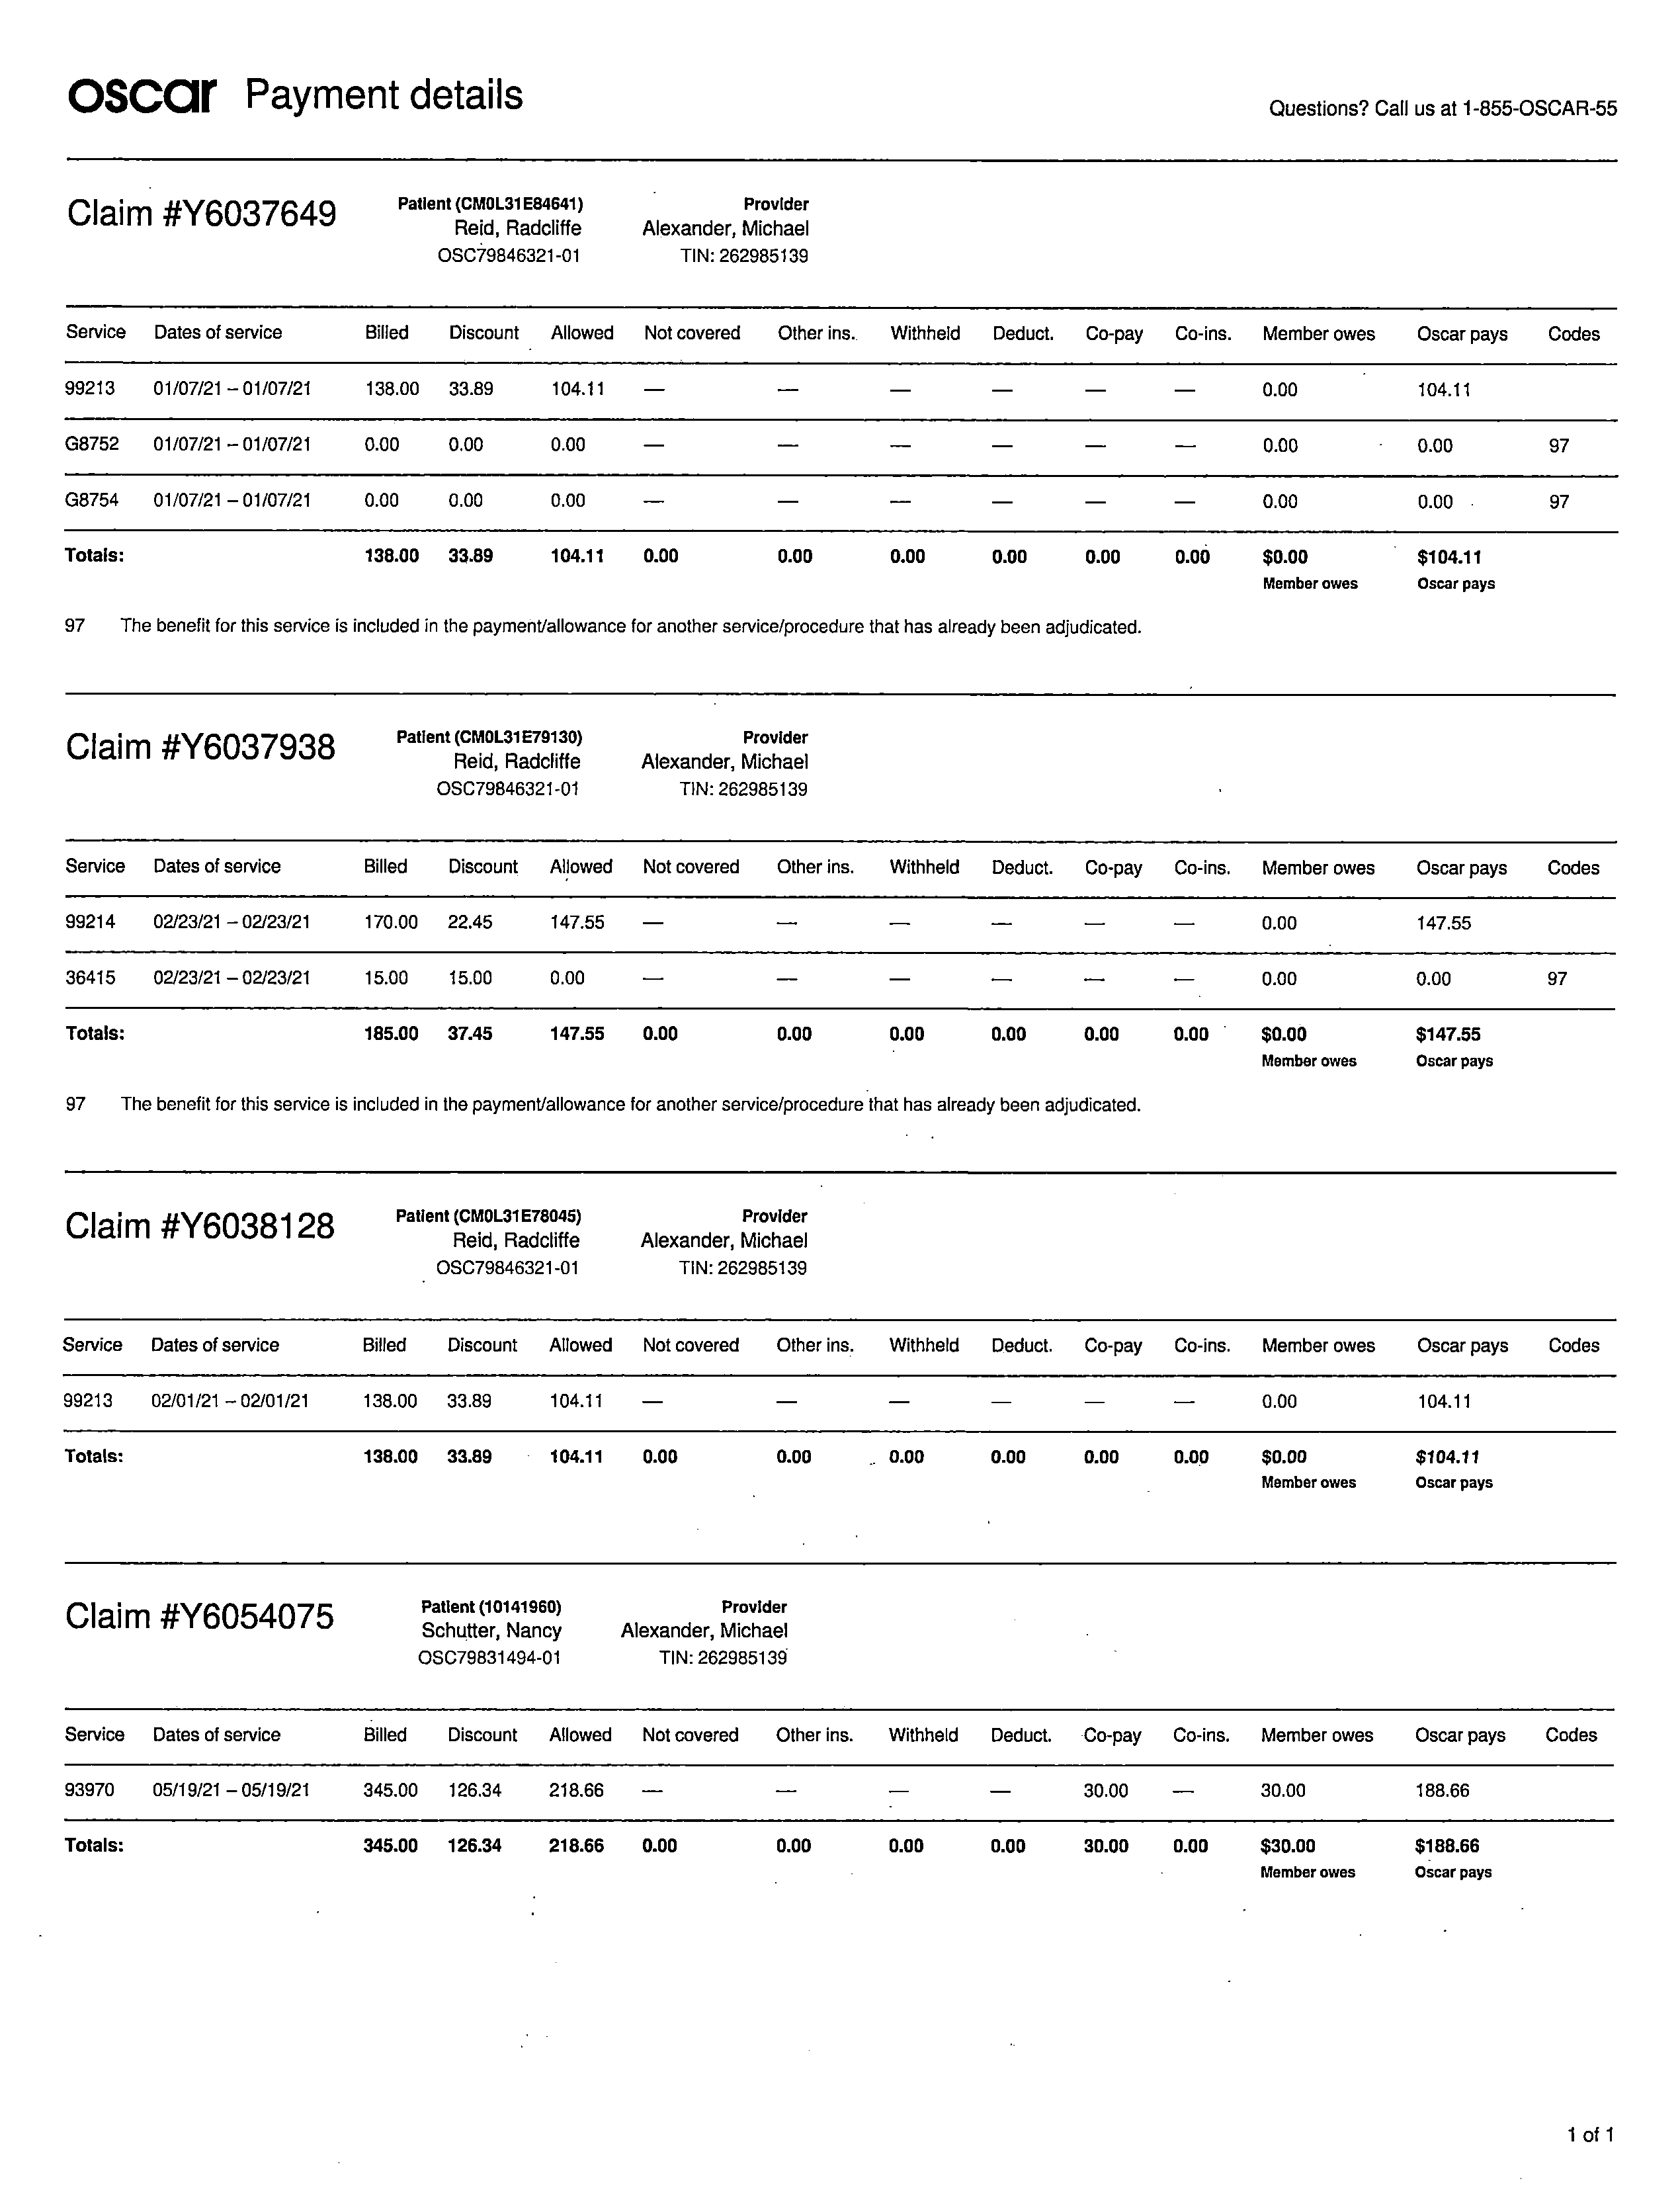data: (34, 1179, 856, 1290), (44, 1571, 810, 1685), (49, 715, 840, 822), (51, 171, 822, 281)
table: (41, 289, 1634, 574), (51, 829, 1620, 1048), (42, 1311, 1632, 1470), (55, 1703, 1613, 1858)
